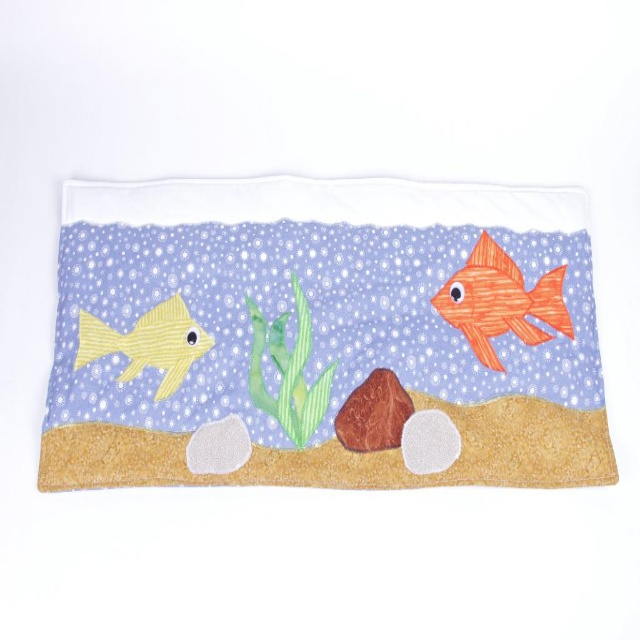Goldfish: (430, 229, 577, 366), (77, 293, 217, 399)
